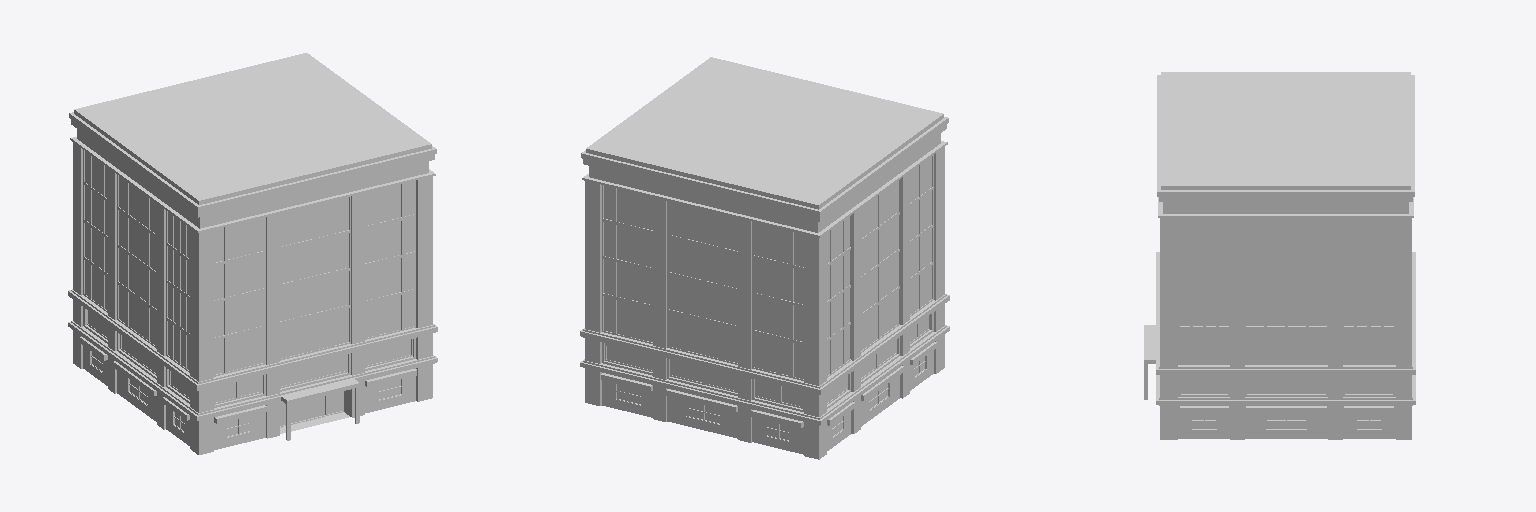
Rendered from building2.obj.
3 views of the same model, side by side, from view 1: azimuth 30°, elevation 25°; view 2: azimuth 150°, elevation 25°; view 3: azimuth 270°, elevation 25° (orthographic).
Visible parts, largest first — view 1: Building_53; view 2: Building_53; view 3: Building_53.
Part boxes in pixels (left/top/right/bottom): Building_53: left=68, top=53, right=437, bottom=454; Building_53: left=580, top=57, right=949, bottom=459; Building_53: left=1144, top=72, right=1415, bottom=439.
Size of the model in its own units: 191 by 192 by 186.